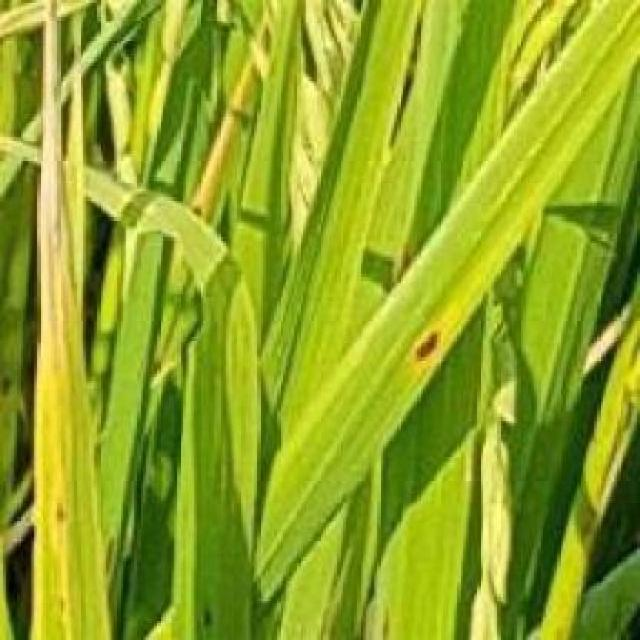Leaf_Blast: (400, 314, 443, 366)
